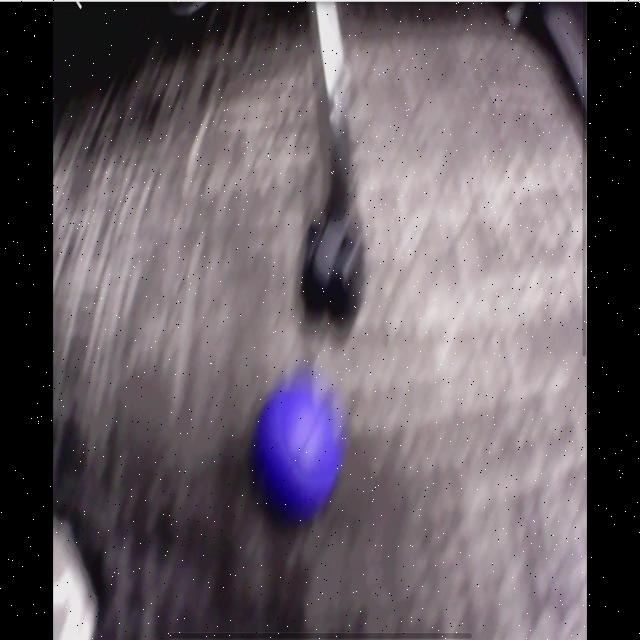ball: (256, 391, 337, 512)
